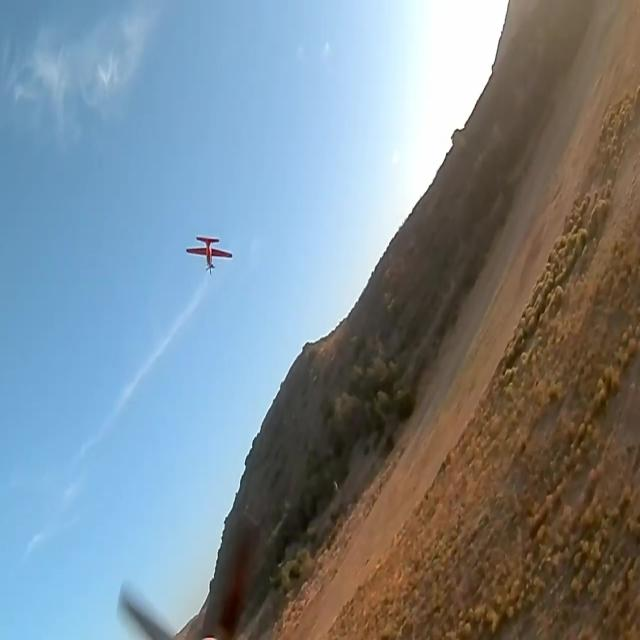iha: (184, 234, 233, 275)
